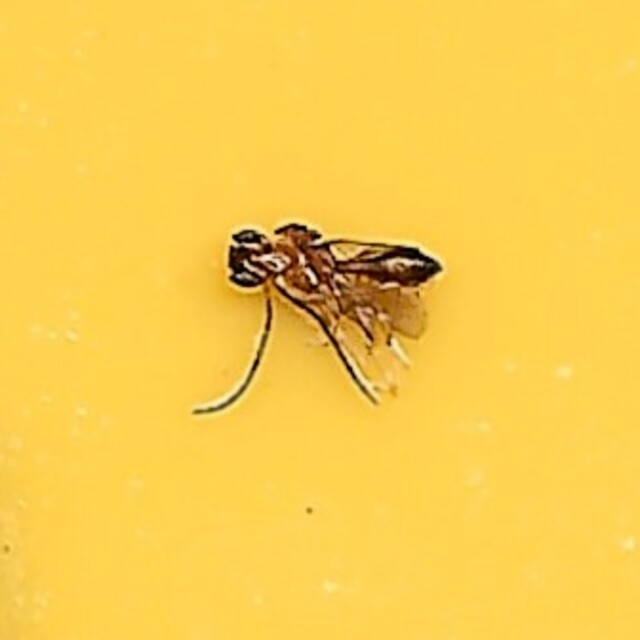Hymenoptera: (190, 219, 450, 421)
